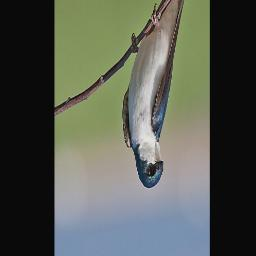Swallow: (122, 0, 193, 192)
